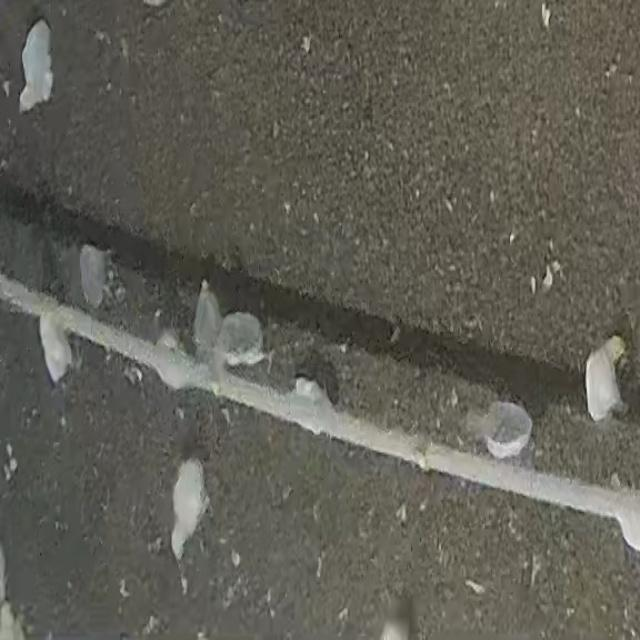chicken: (169, 453, 213, 565), (16, 13, 56, 116), (217, 310, 279, 376), (585, 333, 628, 422), (481, 395, 533, 463), (77, 242, 119, 312)
